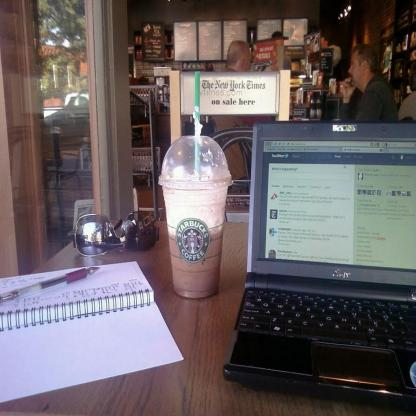board: (222, 120, 416, 406)
